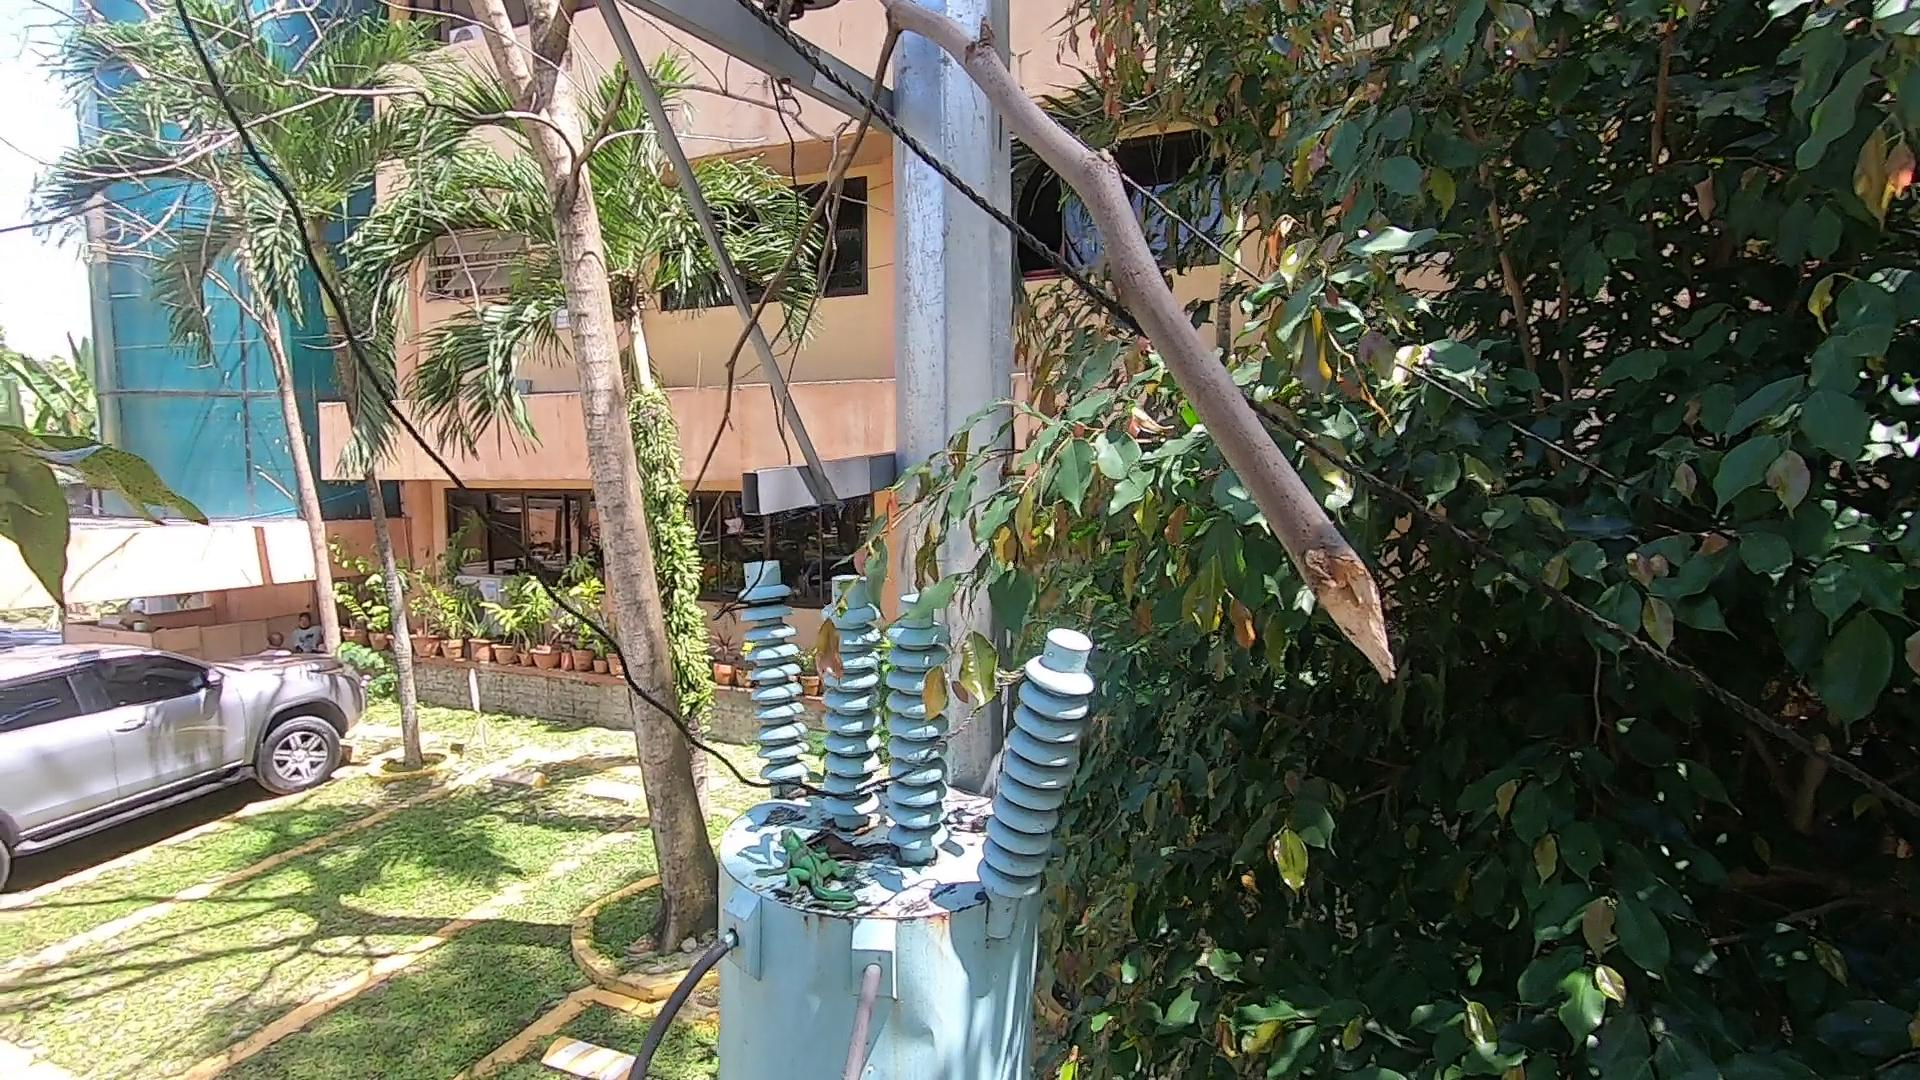branch with leaves: (756, 436, 1054, 723)
leaf: (803, 828, 926, 878), (939, 807, 993, 841), (775, 775, 820, 804)
tree branch: (855, 3, 1433, 752)
